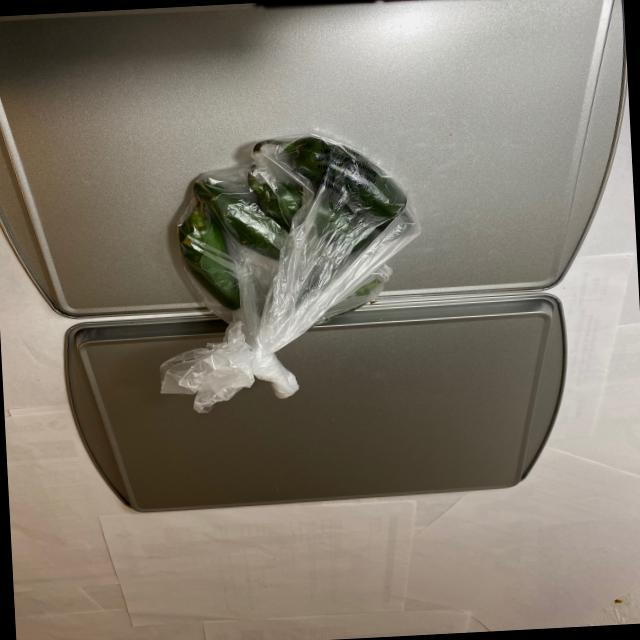chilli: (172, 126, 422, 316)
